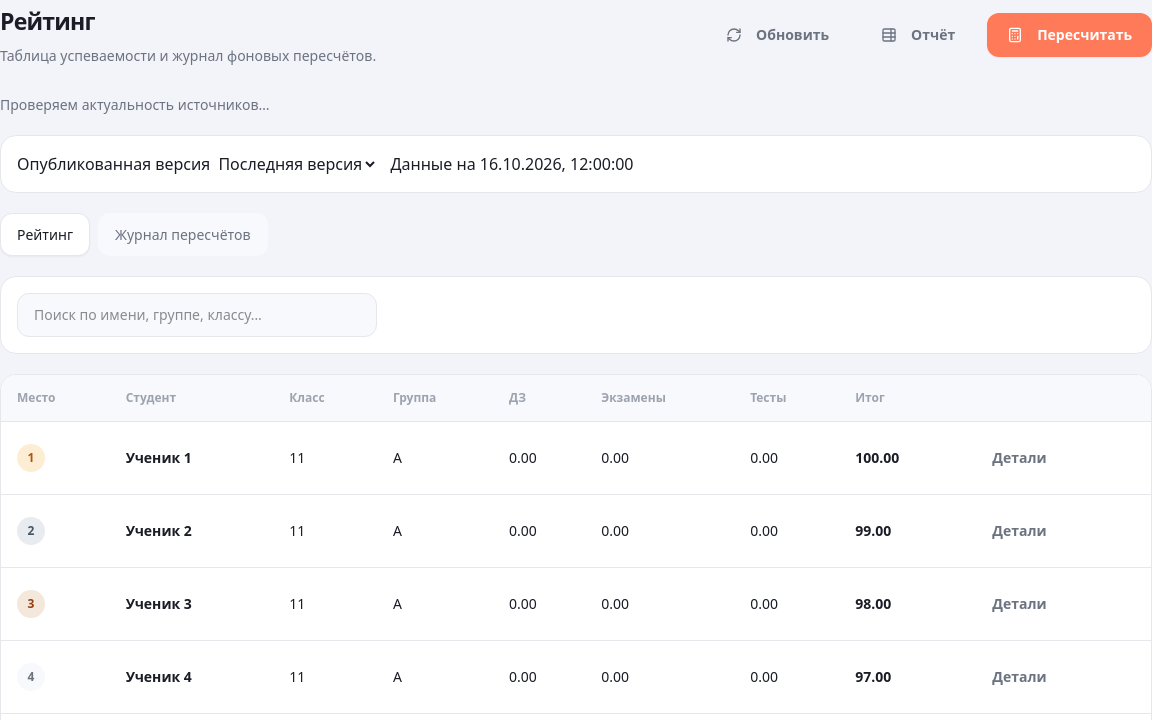
Test case: searches the full published ranking through the server and preserves the global place
Type "Финиш" into the field with placeholder "Поиск по имени, группе, классу…" at (197, 315), box [17,293,377,337]
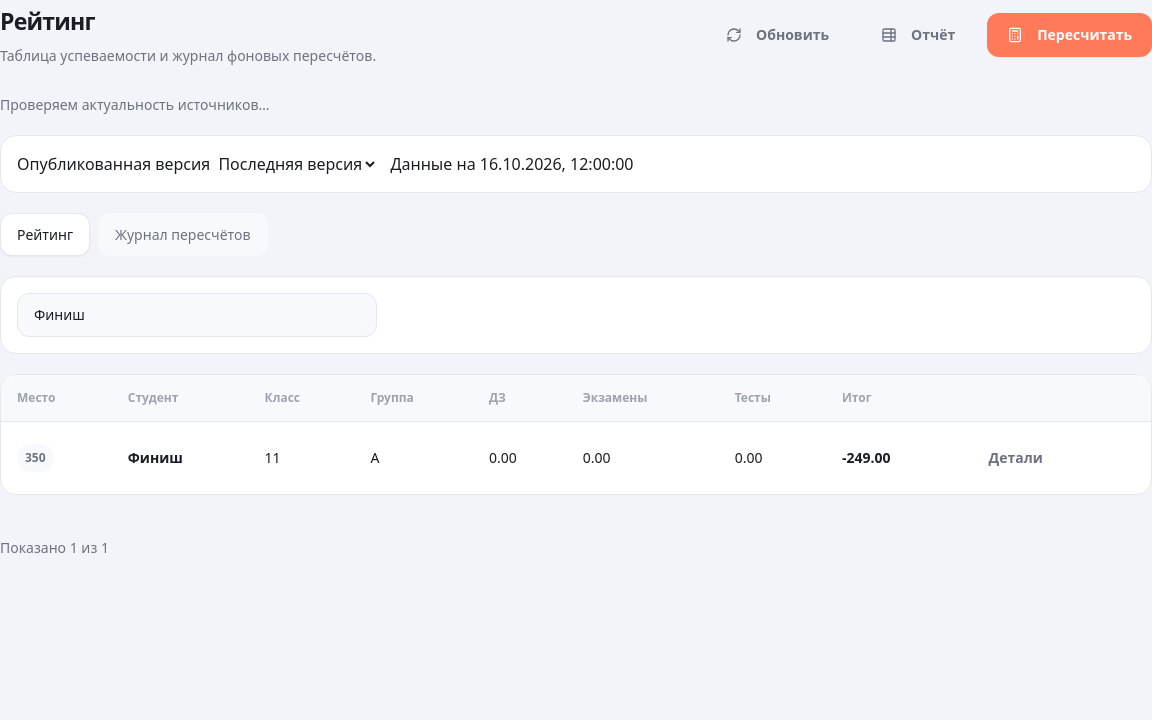
Result: the text "Финиш" is shown at [128,448,183,467]
Result: the text "350" is shown at [17,444,54,472]
Result: the text "Ученик 1" is gone
